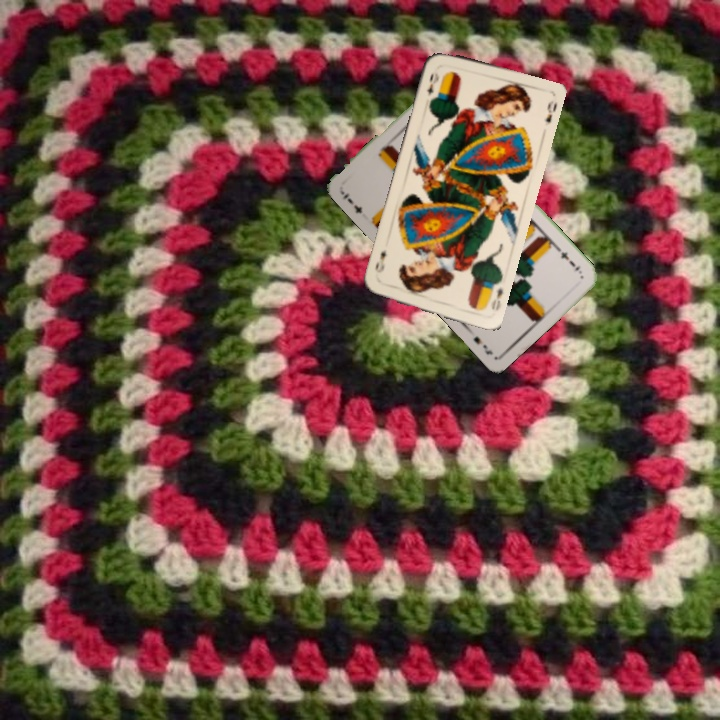E7: (553, 244, 585, 277), (338, 189, 365, 216)
EO: (423, 69, 442, 99), (487, 283, 506, 313)
